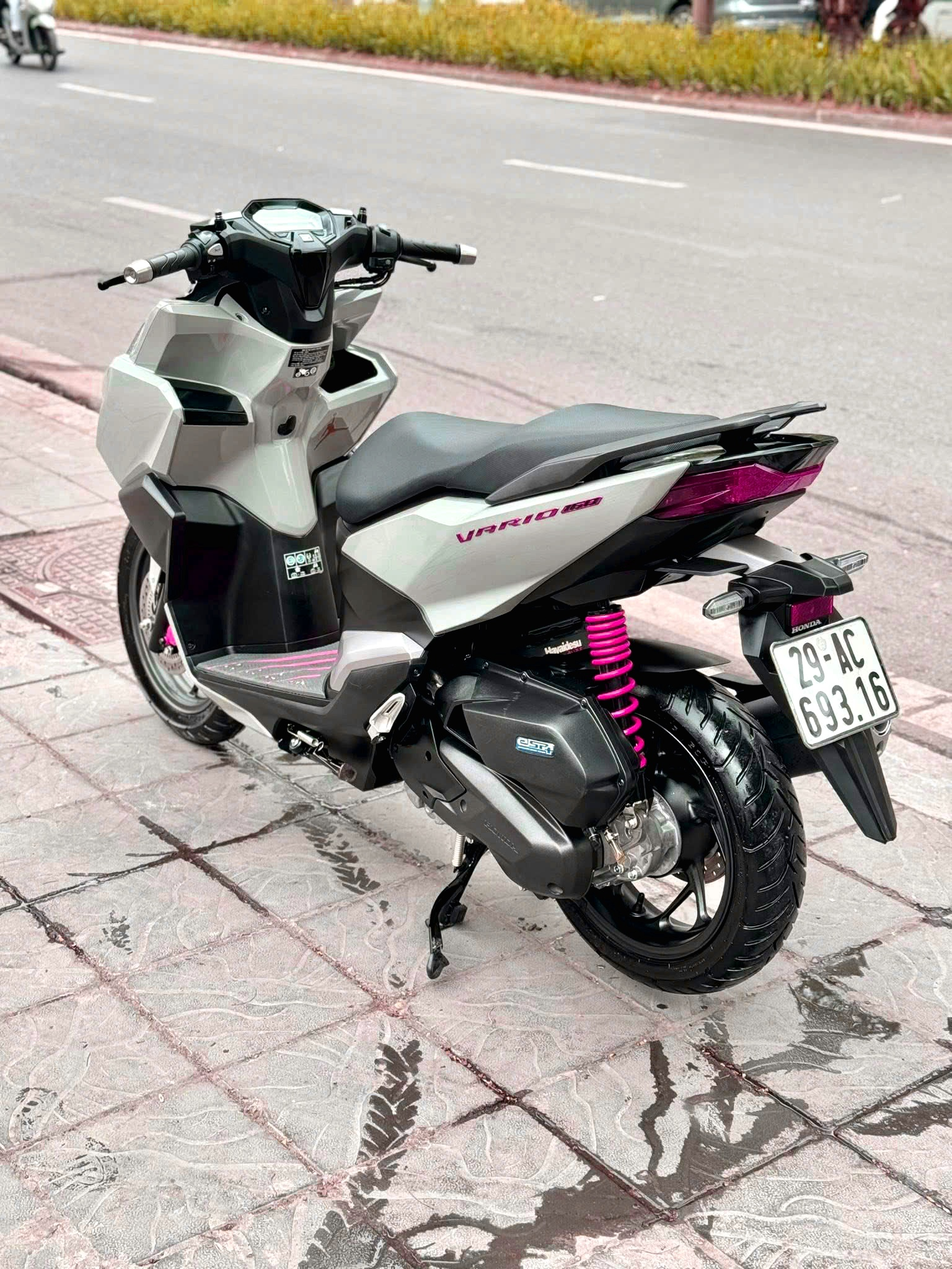Bien-so: (781, 592, 917, 734)
